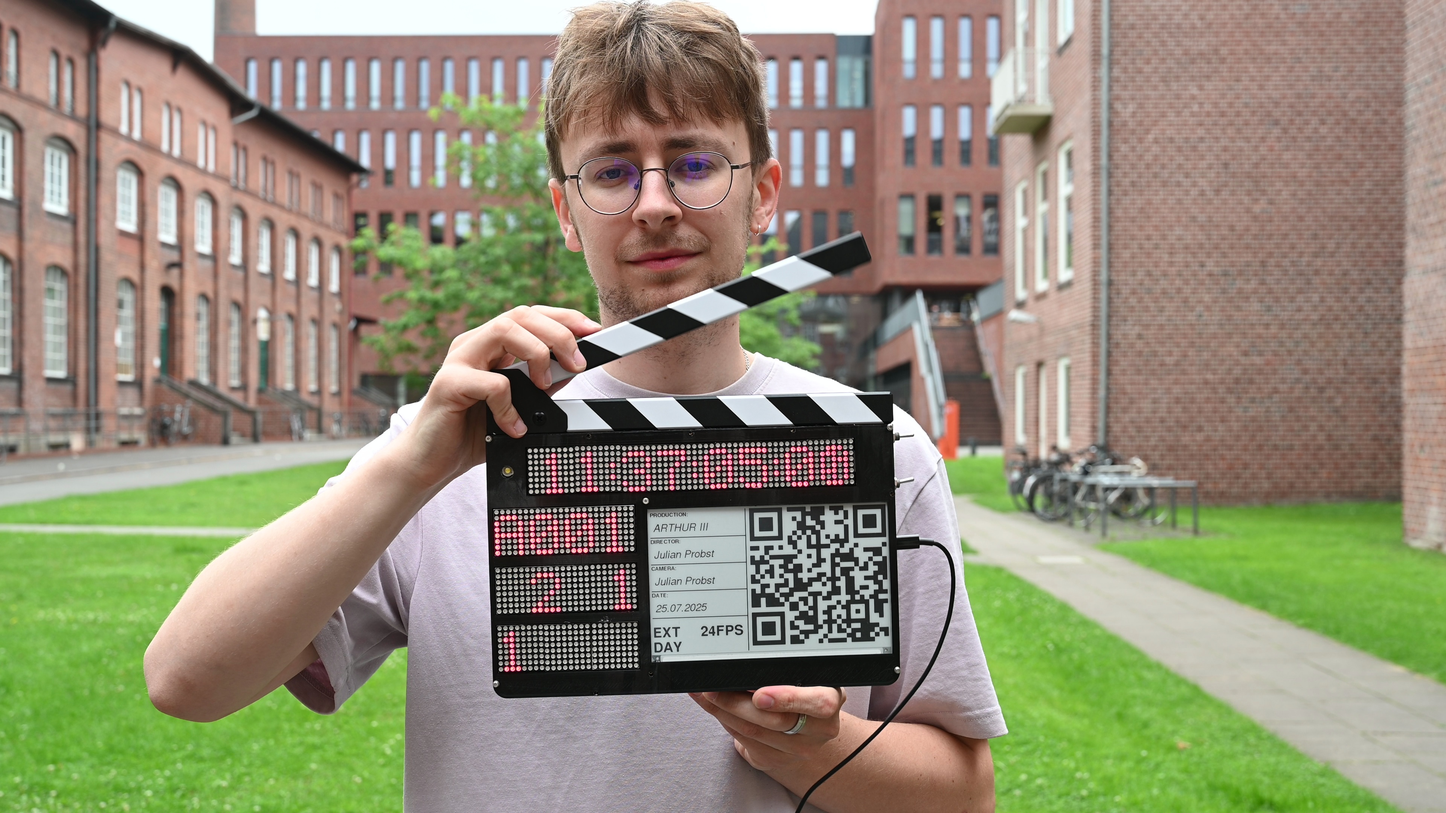ARC-SLATE: (483, 391, 900, 699)
